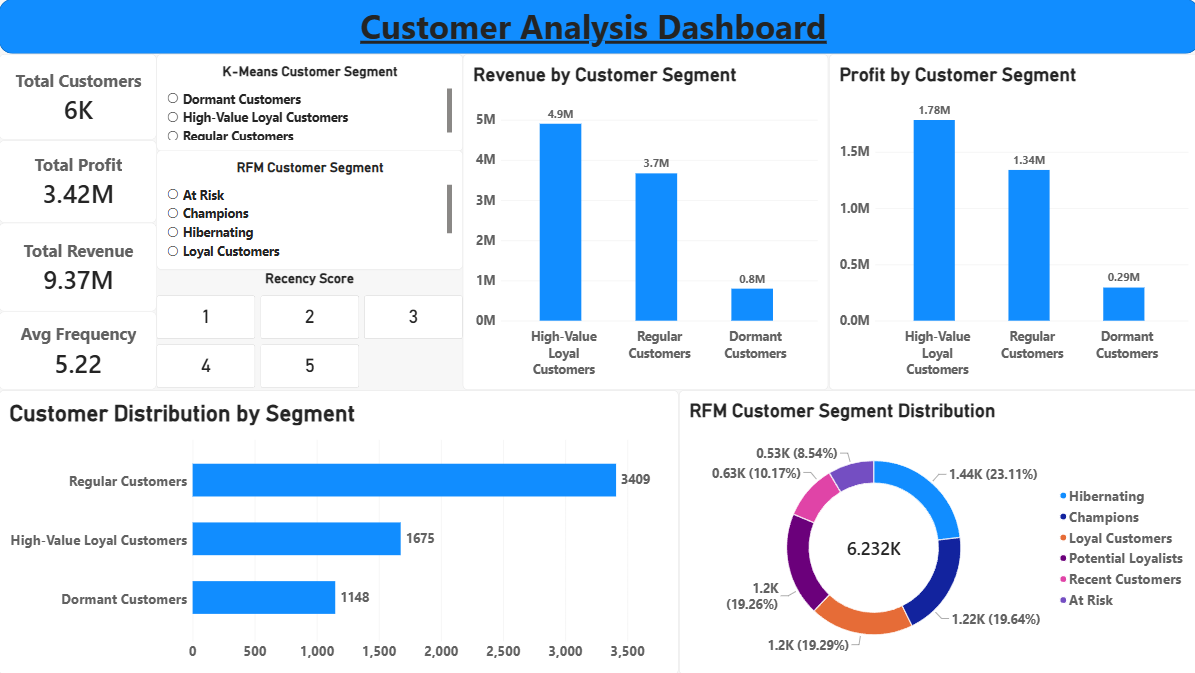

The page's visual inventory and layout, read from the dashboard file:
{"tool":"powerbi","page":{"name":"Page 1","canvas":[1920,1080],"ordinal":0},"visuals":[{"type":"cardVisual","fields":{"Data":["final_customer_segmentation.Total Customers"]},"box":[0,87.5,252.5,137.5],"z":0},{"type":"cardVisual","fields":{"Data":["final_customer_segmentation.Total Profit"]},"box":[0,225,252.5,132.5],"z":1000},{"type":"cardVisual","fields":{"Data":["final_customer_segmentation.Total Revenue"]},"box":[0,357.5,252.5,142.5],"z":2000},{"type":"cardVisual","fields":{"Data":["final_customer_segmentation.Average Frequency"]},"box":[0,500,252.5,125],"z":3000},{"type":"clusteredBarChart","title":"Customer Distribution by Segment","fields":{"Category":["final_customer_segmentation.Cluster_Name"],"Y":["CountNonNull(final_customer_segmentation.F_Score)"]},"box":[0,625,1087.5,455],"z":4000},{"type":"clusteredColumnChart","title":"Revenue by Customer Segment","fields":{"Category":["final_customer_segmentation.Cluster_Name"],"Y":["final_customer_segmentation.Total Revenue"]},"box":[742.5,87.5,585,537.5],"z":5000},{"type":"textbox","box":[643,713,175,367],"z":6000},{"type":"shape","box":[0,0,1920,87.5],"z":7000},{"type":"textbox","box":[577.5,5,1130,82.5],"z":8000},{"type":"clusteredColumnChart","title":"Profit by Customer Segment","fields":{"Category":["final_customer_segmentation.Cluster_Name"],"Y":["final_customer_segmentation.Total Profit"]},"box":[1327.5,87.5,592.5,537.5],"z":9000},{"type":"donutChart","title":"RFM Customer Segment Distribution","fields":{"Category":["final_customer_segmentation.Customer_Segment"],"Y":["CountNonNull(final_customer_segmentation.CustomerID)"]},"box":[1087.5,625,832.5,455],"z":10000},{"type":"listSlicer","title":"K-Means Customer Segment","fields":{"Values":["final_customer_segmentation.Cluster_Name"]},"box":[252.9,87.1,490,155.7],"z":11000},{"type":"listSlicer","title":"RFM Customer Segment","fields":{"Values":["final_customer_segmentation.Customer_Segment"]},"box":[252.9,242.9,490,191.4],"z":12000},{"type":"advancedSlicerVisual","title":"Recency Score","fields":{"Values":["final_customer_segmentation.R_Score"]},"box":[252.9,434.3,490,188.6],"z":12001}]}

Visuals, with their boxes in screenshot pixels (x1, y1, x2, y2), scaled from the page's 1920x1080 canvas onto the 1195x673 screenshot:
cardVisual - final_customer_segmentation.Total Customers: crop(0, 55, 157, 140)
cardVisual - final_customer_segmentation.Total Profit: crop(0, 140, 157, 223)
cardVisual - final_customer_segmentation.Total Revenue: crop(0, 223, 157, 312)
cardVisual - final_customer_segmentation.Average Frequency: crop(0, 312, 157, 389)
"Customer Distribution by Segment" clusteredBarChart: crop(0, 389, 677, 672)
"Revenue by Customer Segment" clusteredColumnChart: crop(462, 55, 826, 389)
textbox: crop(400, 444, 509, 672)
shape: crop(0, 0, 1194, 55)
textbox: crop(359, 3, 1063, 55)
"Profit by Customer Segment" clusteredColumnChart: crop(826, 55, 1194, 389)
"RFM Customer Segment Distribution" donutChart: crop(677, 389, 1194, 672)
"K-Means Customer Segment" listSlicer: crop(157, 54, 462, 151)
"RFM Customer Segment" listSlicer: crop(157, 151, 462, 271)
"Recency Score" advancedSlicerVisual: crop(157, 271, 462, 388)
